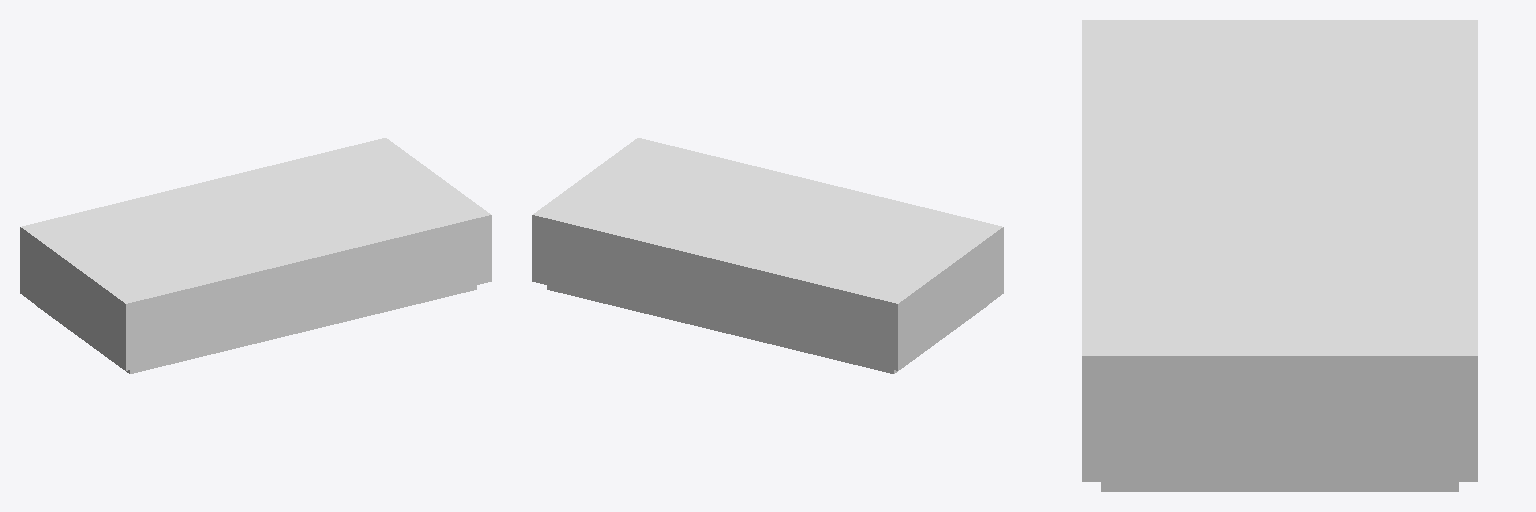
URDF robot description (3069__white):
<?xml version="1.0"?>
<robot name="3069__white">
  <link name="3069__white">
    <inertial>
      <origin xyz="0.000000 0.000000 -0.001307" rpy="0 0 0"/>
      <mass value="0.000319"/>
      <inertia ixx="2.243572880e-09" ixy="-0.000000000e+00" ixz="-0.000000000e+00" iyy="7.739995280e-09" iyz="-0.000000000e+00" izz="9.511276544e-09"/>
    </inertial>
    <visual>
      <geometry>
        <mesh filename="../meshes/visual/3069.obj" scale="1 1 1"/>
      </geometry>
      <material name="3069__white_color">
        <color rgba="0.950 0.950 0.950 1.000"/>
      </material>
    </visual>
    <collision>
      <geometry>
        <mesh filename="../meshes/collision/3069_hull.obj" scale="1 1 1"/>
      </geometry>
    </collision>
  </link>
</robot>

--- Facts derived from the render (not from the file) ---
The picture shows the robot from 3 angles, left to right: view 1: azimuth 30°, elevation 25°; view 2: azimuth 150°, elevation 25°; view 3: azimuth 270°, elevation 25°; orthographic projection.
Robot: 3069__white — 1 links, 0 joints (none); root link 3069__white; default pose: every joint at zero.
Links seen in each view (by area): view 1: 3069__white; view 2: 3069__white; view 3: 3069__white.
Link boxes in pixels (box(x1,y1,x2,y2)): 3069__white: box(20, 138, 491, 373); 3069__white: box(532, 138, 1003, 373); 3069__white: box(1082, 20, 1477, 491).
Bounding box of the posed robot: 0.016 × 0.008 × 0.0032 m (x, y, z).
Meshes: 1 distinct files referenced, 1 mesh visuals loaded (1 OBJ).
